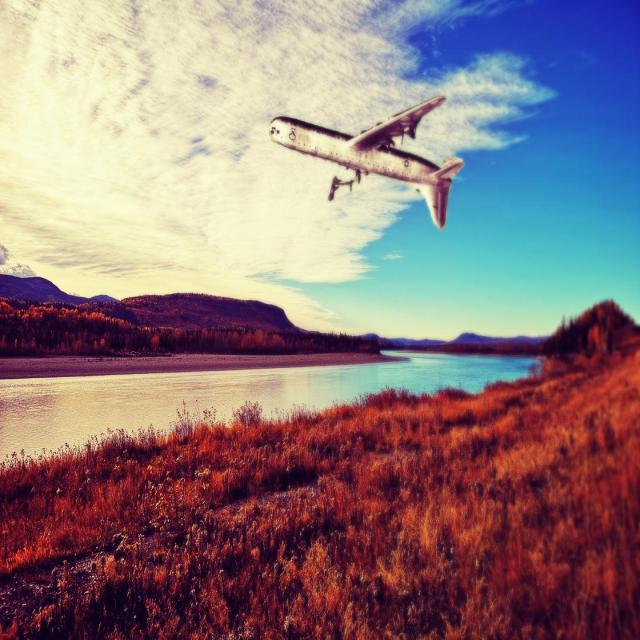airplane: (268, 94, 464, 230)
